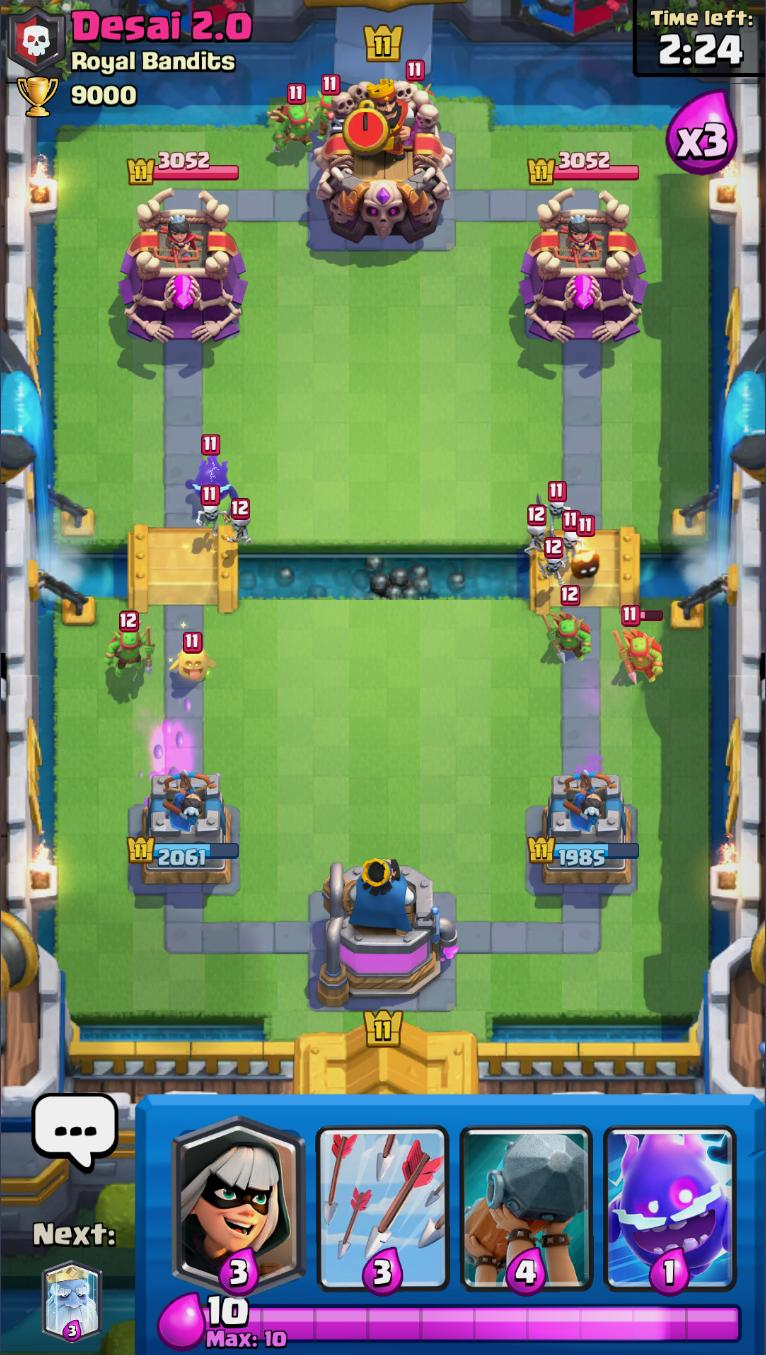ArrowDeck: (308, 1098, 456, 1293)
BanditDeck: (166, 1098, 311, 1290)
BattleRamDeck: (453, 1098, 599, 1297)
ElectroSpirit: (183, 433, 237, 498)
ElectroSpiritDeck: (597, 1098, 745, 1293)
Elixir: (203, 1292, 252, 1328)
EnemyTower: (522, 190, 650, 348), (120, 197, 238, 347)
FireSpirit: (570, 512, 605, 590)
HealSpirit: (172, 633, 210, 690)
KingTower: (313, 73, 450, 257)
MyKingTower: (315, 860, 462, 1010)
MyPrincessTower: (122, 773, 240, 892), (530, 767, 642, 887)
MyPrincessTowerHP: (128, 837, 238, 867), (532, 838, 642, 867)
PrincessTower: (552, 212, 607, 265), (153, 213, 205, 268)
RoyaleGhostNext: (42, 1257, 103, 1343)
Skeleton: (193, 483, 235, 533), (531, 480, 574, 522), (540, 538, 570, 586), (225, 497, 253, 548), (525, 505, 550, 557), (560, 513, 577, 565)
SpearGoblin: (547, 585, 595, 668), (620, 605, 665, 683), (272, 80, 315, 158), (110, 612, 153, 688), (313, 75, 347, 125)
TowerPrincessHP: (128, 145, 242, 185), (527, 150, 642, 188)
